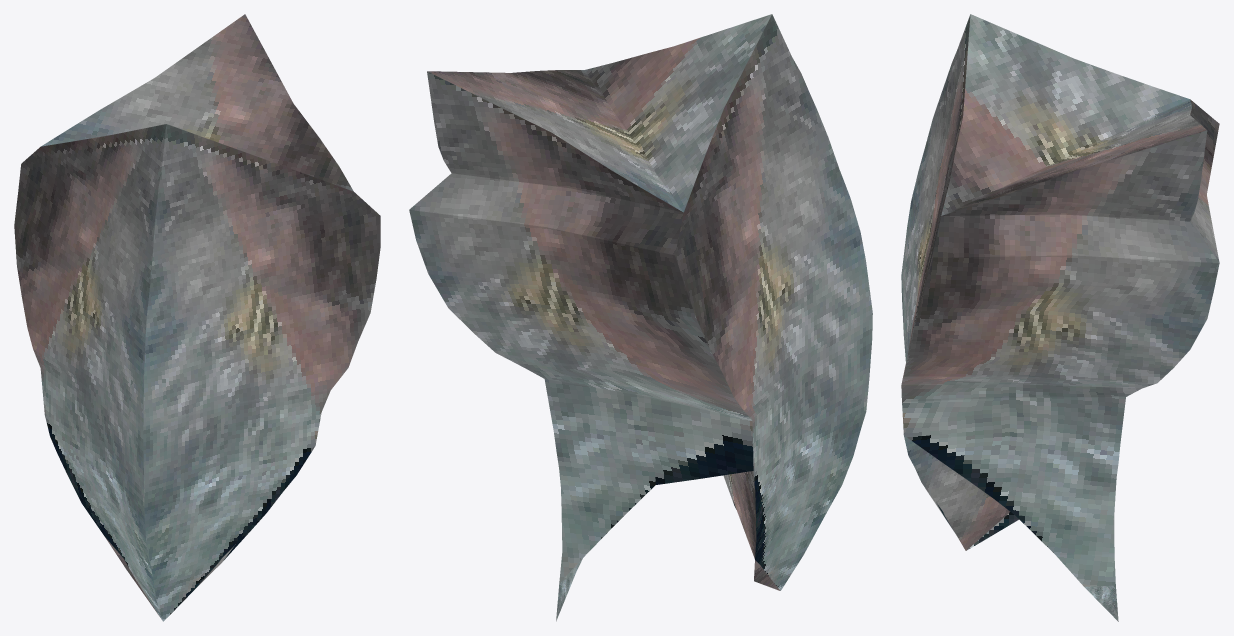
3 views of the same model, side by side, from view 1: azimuth 30°, elevation 25°; view 2: azimuth 150°, elevation 25°; view 3: azimuth 270°, elevation 25° (orthographic). The views are drawn at different scales.
Visible parts, largest first — view 1: SPLICE_2; view 2: SPLICE_2; view 3: SPLICE_2.
Part boxes in pixels (x1=…): SPLICE_2: x1=14, y1=14, x2=380, y2=621; SPLICE_2: x1=409, y1=14, x2=872, y2=621; SPLICE_2: x1=901, y1=14, x2=1219, y2=621.
Bounding box in the file's own units: 0.997 × 1.89 × 1.
1 material, 1 textured.
